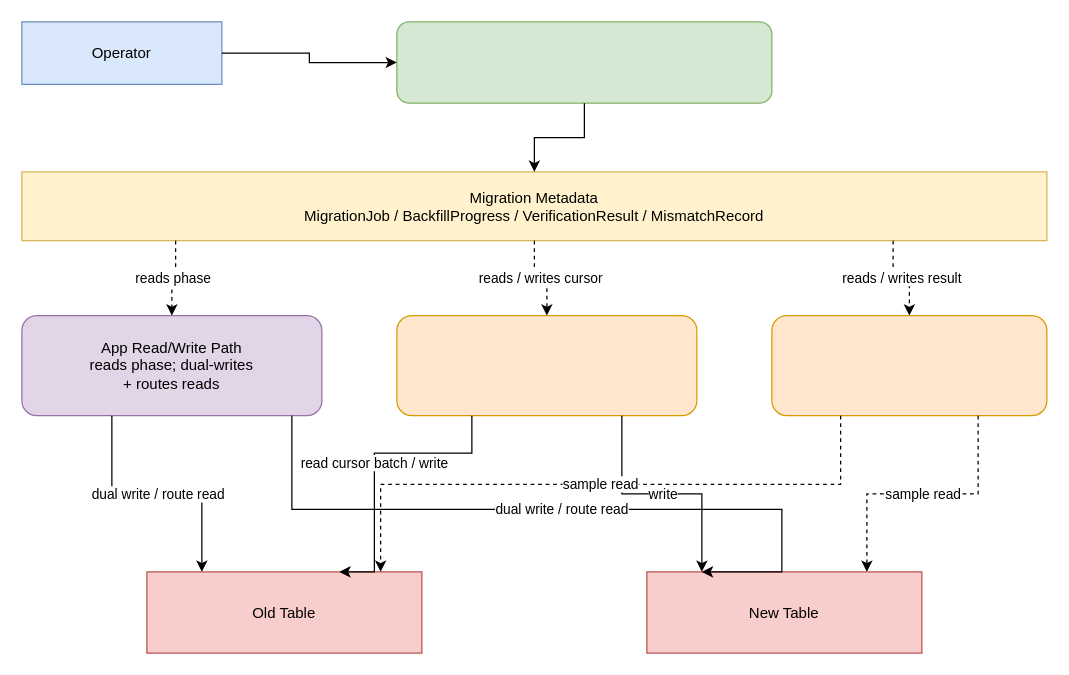
Some shapes in this 1069 by 675 pixel diagram are drawn without their labels. The centre of each missing label's shape, as x and y in pixels:
Backfill Worker batched, idempotent, resumable cursor: the point at 546,365
Migration Coordinator owns MigrationJob.phase; gates transitions on approval: the point at 584,62
Verification Worker sampled shadow-read compare: the point at 909,365
